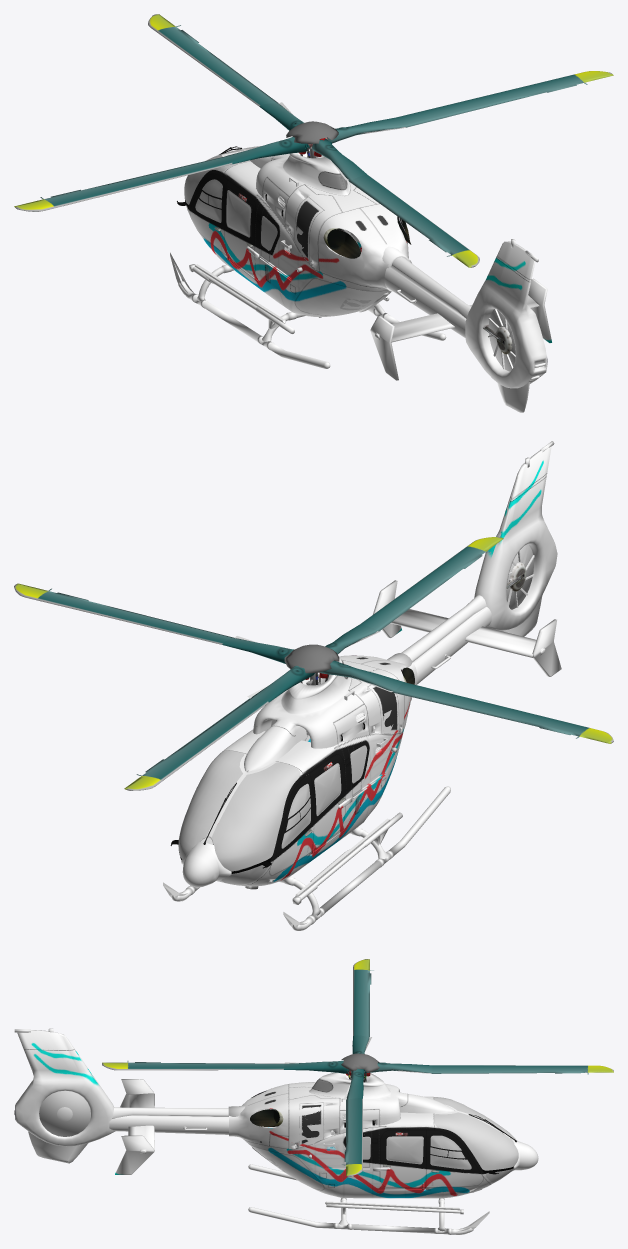
3 renders of one model, top to bottom at view 1: azimuth 30°, elevation 25°; view 2: azimuth 150°, elevation 25°; view 3: azimuth 270°, elevation 25°, orthographic. The views are drawn at different scales.
Parts seen in each view (by area): view 1: fuselage, IBF, longskid_floats, reardoor_L, backdoor_L, frontdoor_L, blade4d, blade2d, blade1d, blade3d, exhaust, backdoorglas_L (+14 smaller); view 2: fuselage, windscreen, longskid_floats, IBF, backdoor_L, frontdoor_L, BigRadom, blade2d, blade3d, blade4d, rotorcap, blade1d (+12 smaller); view 3: fuselage, windscreen, IBF, longskid_floats, backdoor_R, rotor_disc_T, frontdoor_R, frontdoorglas_R, backdoorglas_R, reardoor_R, blade1d, blade3d (+12 smaller).
Part boxes in pixels (box(x1,y1,x2,y2)): fuselage: box(177, 149, 551, 412); IBF: box(285, 182, 379, 271); longskid_floats: box(178, 250, 446, 368); reardoor_L: box(295, 279, 387, 315); backdoor_L: box(224, 180, 259, 273); frontdoor_L: box(190, 173, 227, 254); blade4d: box(14, 184, 117, 211); blade2d: box(511, 71, 613, 98); blade1d: box(415, 223, 479, 267); blade3d: box(148, 14, 211, 58); exhaust: box(323, 216, 411, 258); backdoorglas_L: box(226, 190, 251, 237); fuselage: box(170, 441, 561, 886); windscreen: box(178, 751, 300, 871); longskid_floats: box(172, 786, 450, 930); IBF: box(342, 660, 404, 734); backdoor_L: box(309, 754, 352, 854); frontdoor_L: box(269, 773, 313, 875); BigRadom: box(181, 841, 231, 887); blade2d: box(14, 583, 113, 616); blade3d: box(124, 748, 199, 790); blade4d: box(513, 711, 613, 743); rotorcap: box(284, 644, 339, 673); blade1d: box(429, 536, 503, 579); fuselage: box(14, 1028, 514, 1198); windscreen: box(434, 1097, 518, 1170); IBF: box(288, 1082, 339, 1149); longskid_floats: box(248, 1164, 473, 1234); backdoor_R: box(373, 1130, 426, 1190); rotor_disc_T: box(39, 1090, 90, 1136); frontdoor_R: box(426, 1130, 483, 1187); frontdoorglas_R: box(430, 1135, 471, 1169); backdoorglas_R: box(386, 1136, 423, 1164); reardoor_R: box(249, 1144, 324, 1190); blade1d: box(102, 1061, 183, 1070); blade3d: box(532, 1065, 613, 1074).
Bounding box in the file's own units: 10.1 × 3.98 × 11.84.
9 materials, 3 textured.
